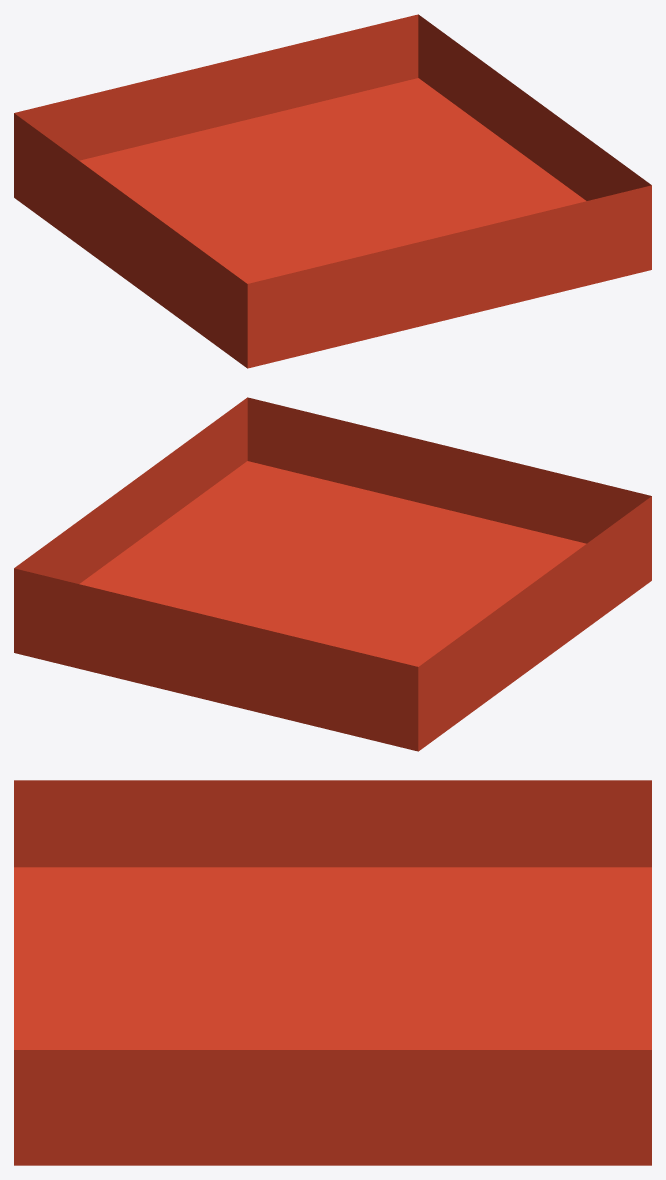
3 views of the same model, one above another, from view 1: azimuth 30°, elevation 25°; view 2: azimuth 150°, elevation 25°; view 3: azimuth 270°, elevation 25° (orthographic). The views are drawn at different scales.
Visible parts, largest first — view 1: Cube; view 2: Cube; view 3: Cube.
Boxes of the visible parts, left/top/right/bottom form: Cube: left=14, top=14, right=651, bottom=368; Cube: left=14, top=397, right=651, bottom=751; Cube: left=14, top=780, right=651, bottom=1165.
Bounding box in the file's own units: 1 × 1 × 0.2.
